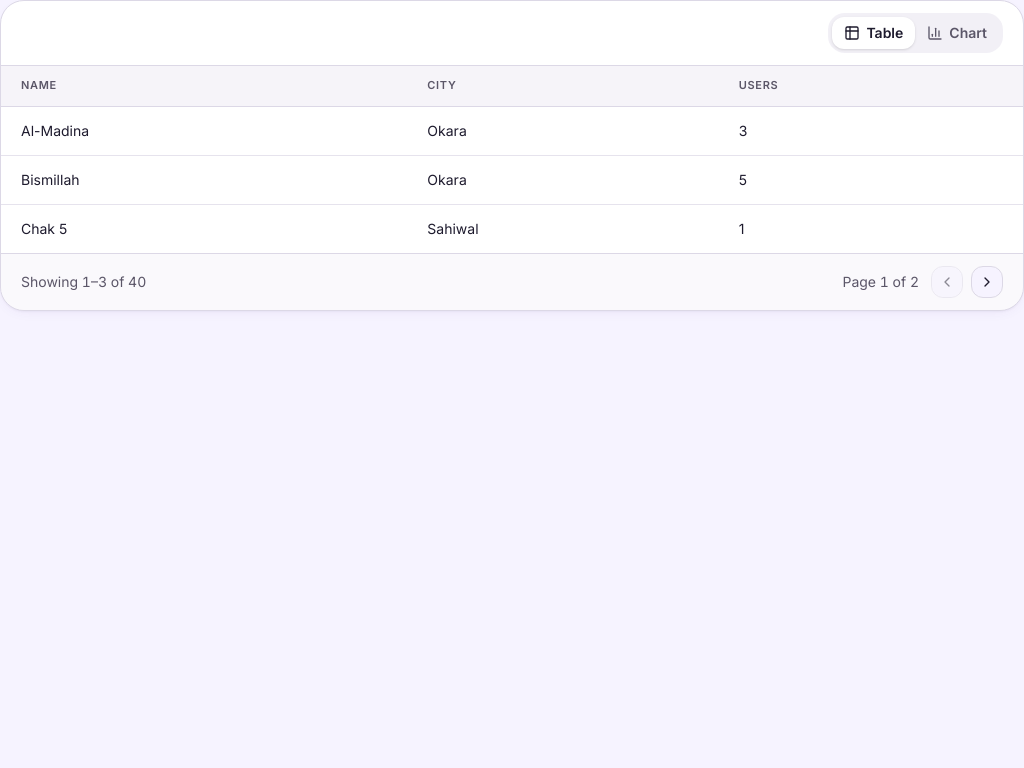
Test case: DataTable chart view › charts the rows it is given (every filtered row), not only the page
Click the button "Chart" at (957,33), box [915,17,999,49]
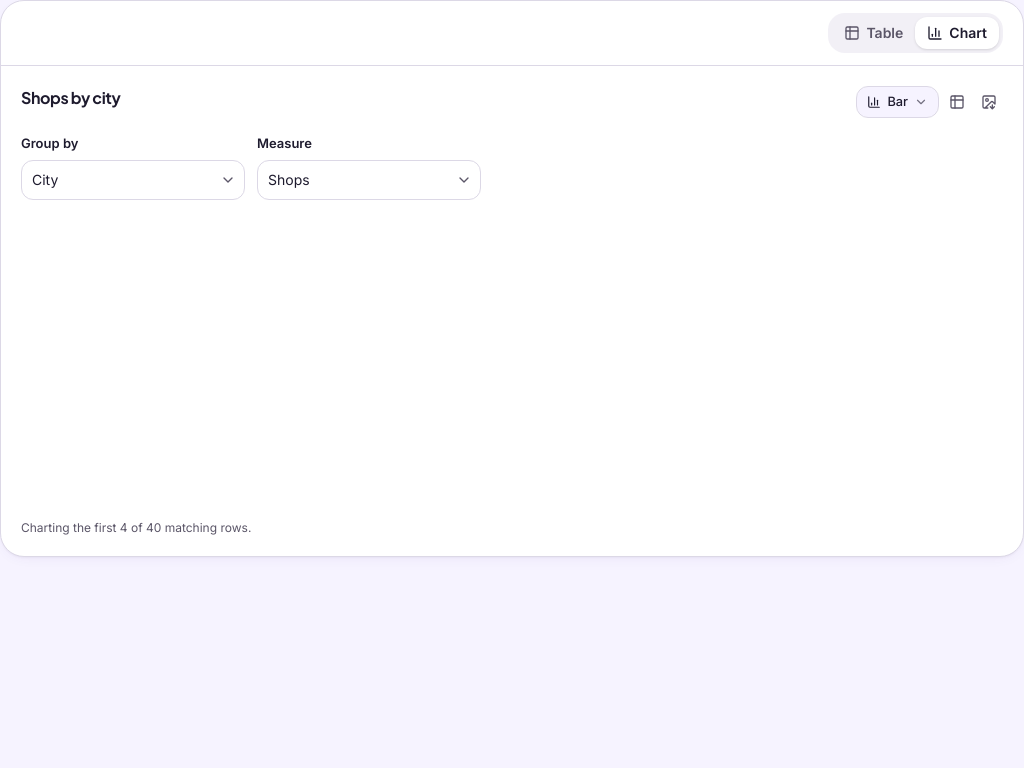
Now the text "Charting the first 4 of 40 matching rows." is shown, box [21,520,251,534]
Now the heading "Shops by city" is shown, box [21,87,120,108]
Now the navigation bar "Pages" is gone
